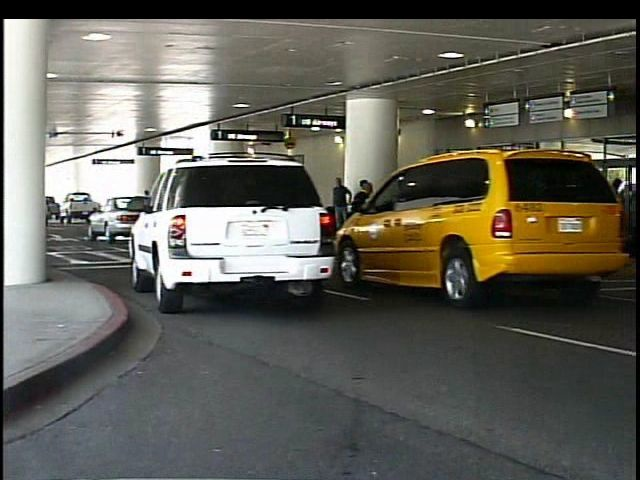person: (511, 165, 541, 261), (354, 178, 381, 260), (330, 172, 357, 242)
